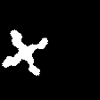single_crochet: (2, 30, 47, 74)
